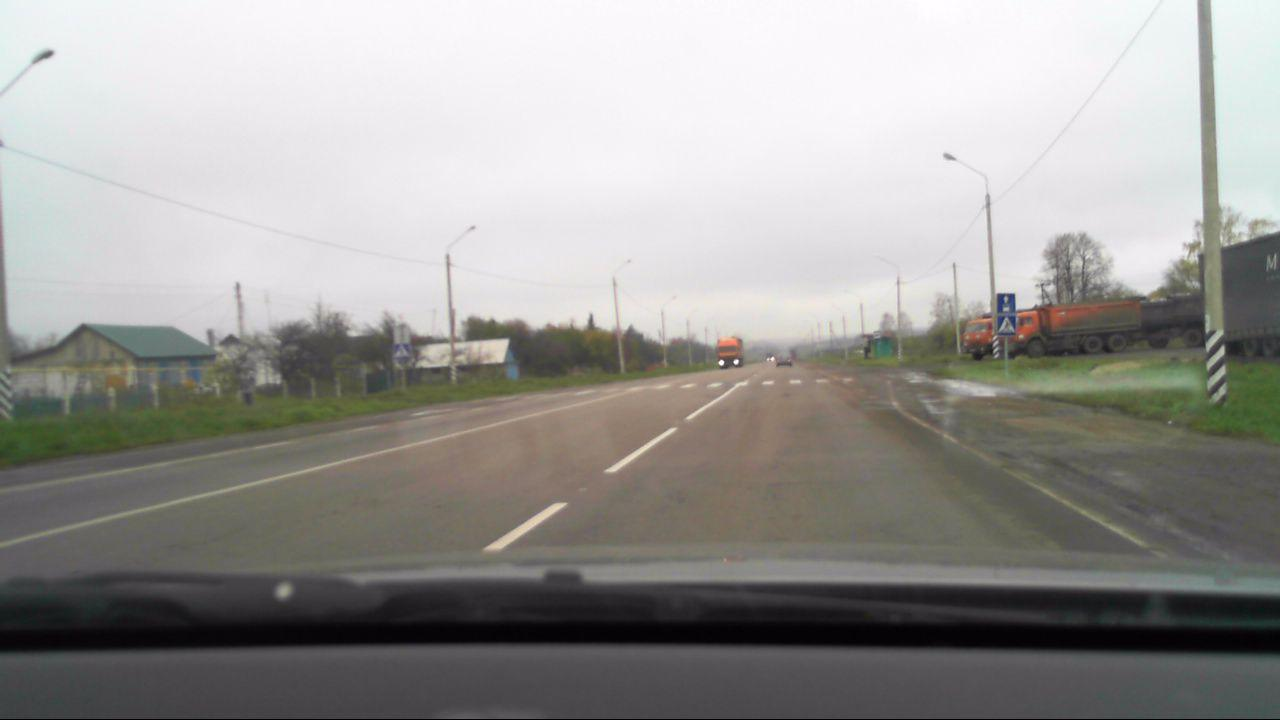5_14_1: (996, 293, 1015, 314)
5_19_1: (998, 316, 1015, 336)
5_19_2: (394, 341, 409, 358)
